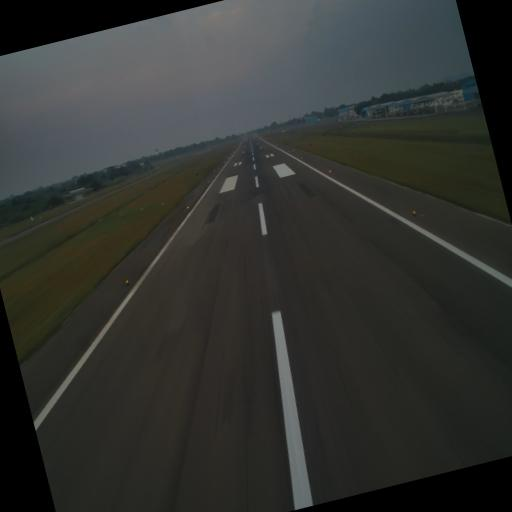on: (123, 276, 130, 286), (410, 208, 417, 216), (328, 166, 334, 174), (186, 204, 190, 210)
